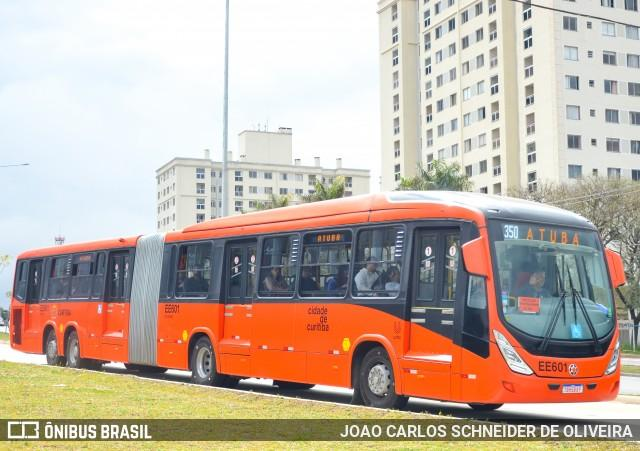ATUBA: (521, 222, 583, 251)
